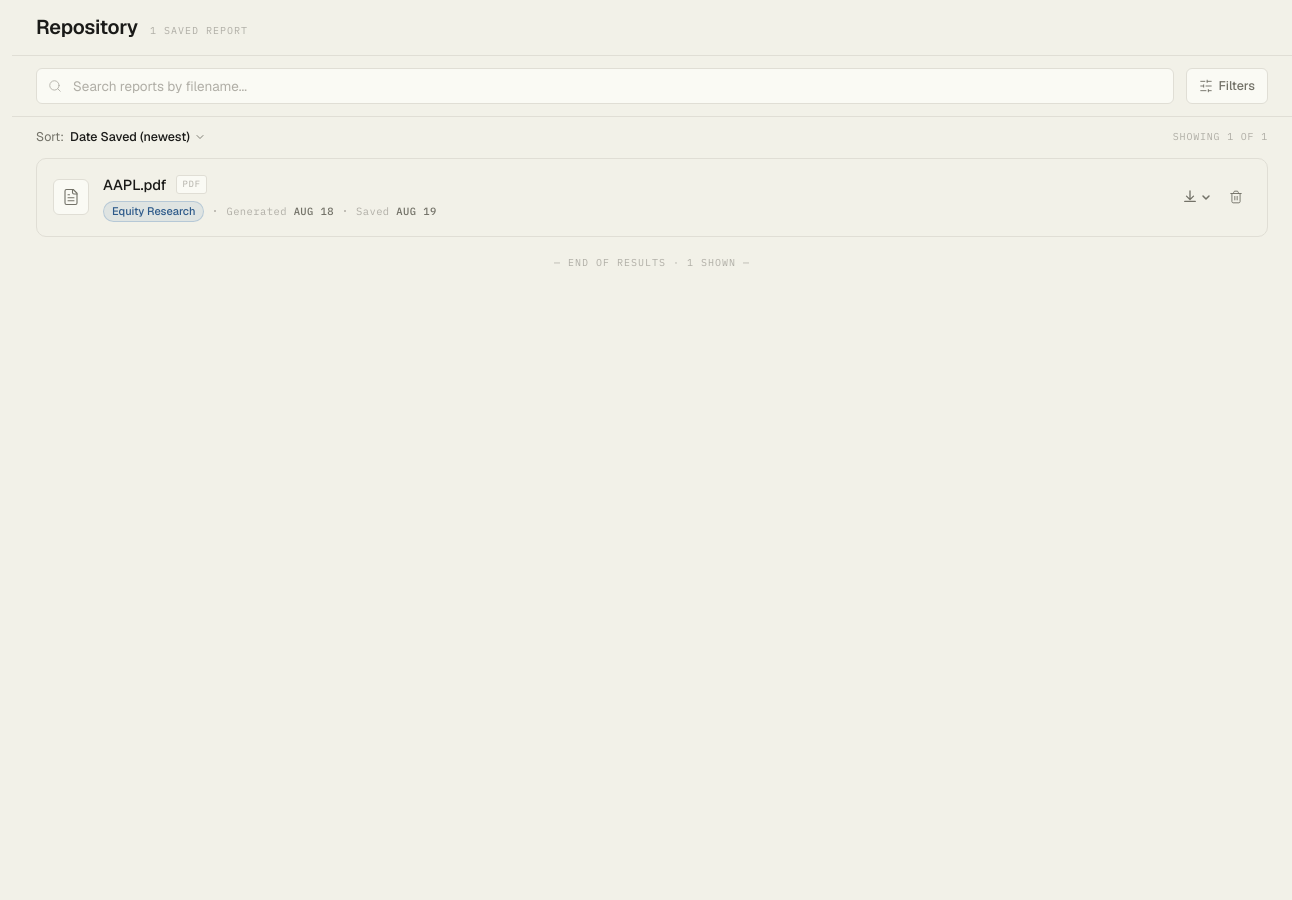
Scenario: Repository page › clicking row opens FileViewer with metadata and no Save button
Click the button with test id "repo-row" at (71, 197), box [37,159,1267,236]
(page scrolled)
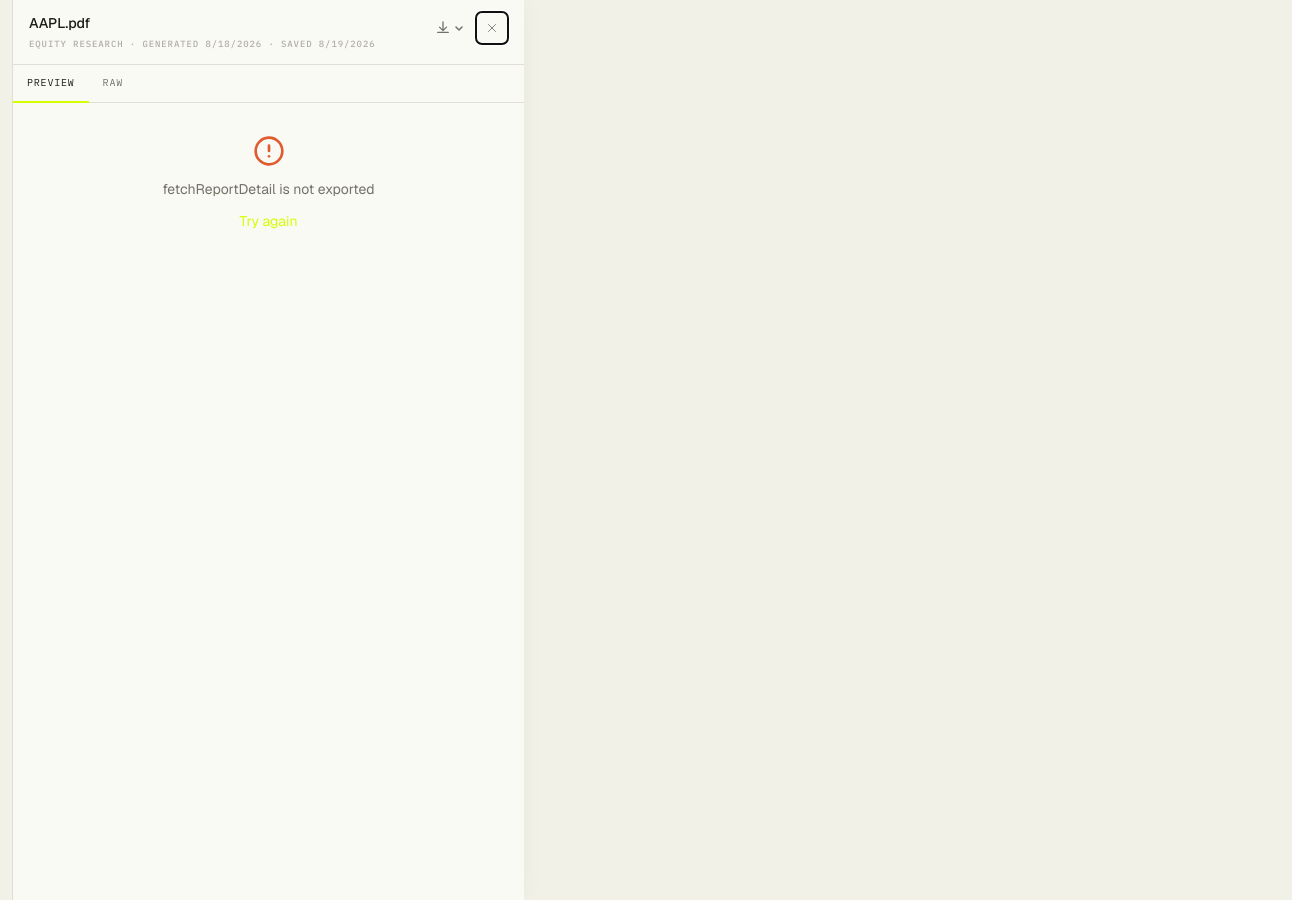
Expected: the element with test id "file-viewer" is shown, [12,0,524,899]
